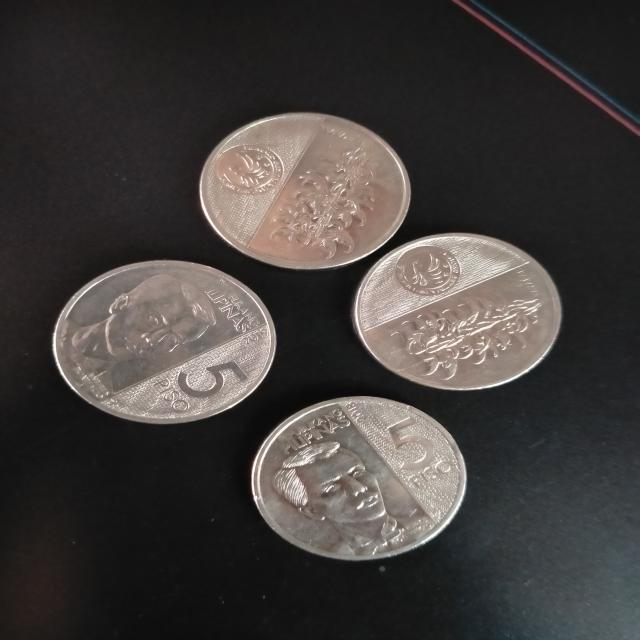5_New_Back: (388, 284, 553, 386), (266, 140, 386, 264)
5_New_Front: (377, 410, 470, 492), (141, 350, 248, 420)
